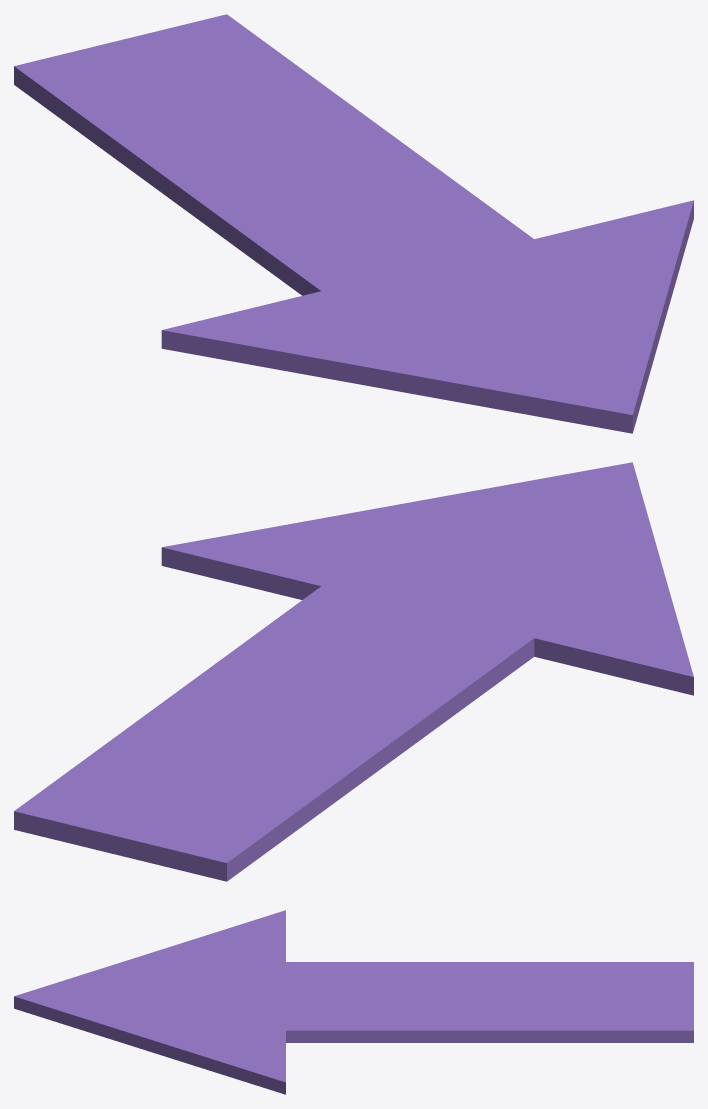
Rendered from spawn_marker.glb.
3 views of the same model, one above another, from view 1: azimuth 30°, elevation 25°; view 2: azimuth 150°, elevation 25°; view 3: azimuth 270°, elevation 25° (orthographic). The views are drawn at different scales.
Visible parts, largest first — view 1: spawn_marker; view 2: spawn_marker; view 3: spawn_marker.
Part boxes in pixels (<box>): spawn_marker: <box>14,14,693,433</box>; spawn_marker: <box>14,462,693,881</box>; spawn_marker: <box>14,910,693,1094</box>.
Bounding box in the file's own units: 0.3 × 0.01 × 0.5.
1 material, 1 textured.
